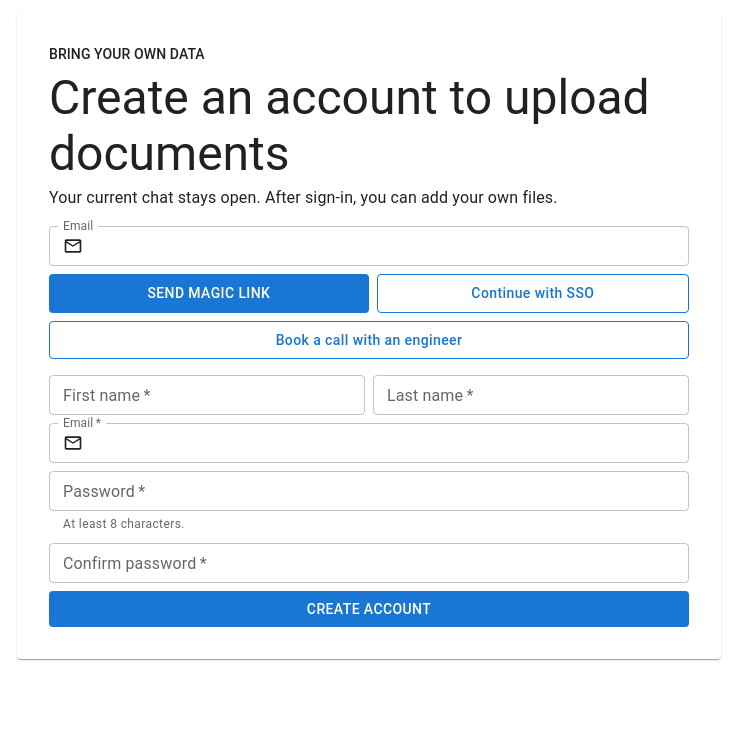
Test: SignUpWidget › blocks submit and shows inline error when passwords don't match
Step 1. Type "Pat" into the field with test id "signup-first-input" → [207, 395], box x1=49 y1=375 x2=365 y2=415
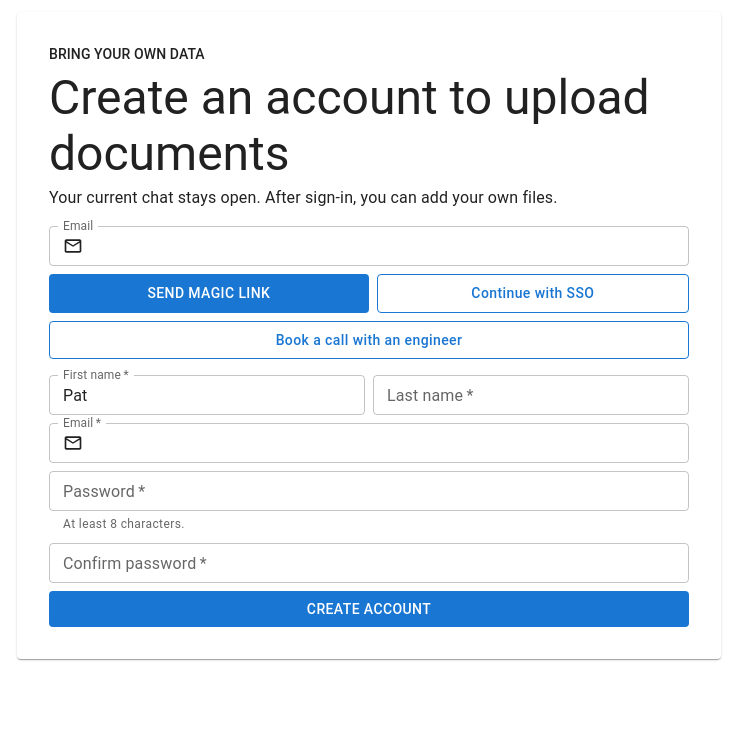
Step 2. Type "Lee" into the field with test id "signup-last-input" → [531, 395], box x1=373 y1=375 x2=689 y2=415
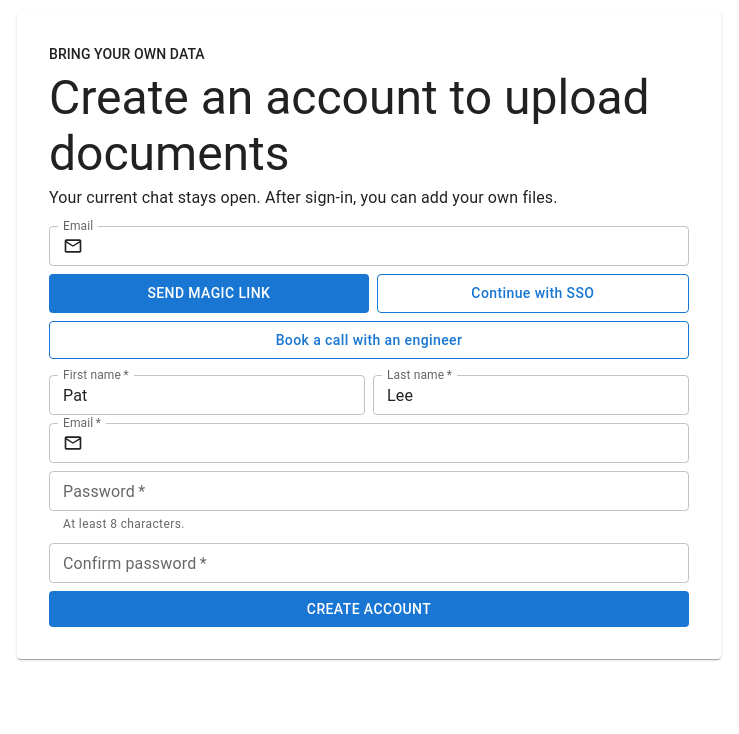
Step 3. Type "pat@example.com" into the field with test id "signup-email-input" → [390, 443], box x1=91 y1=423 x2=689 y2=463
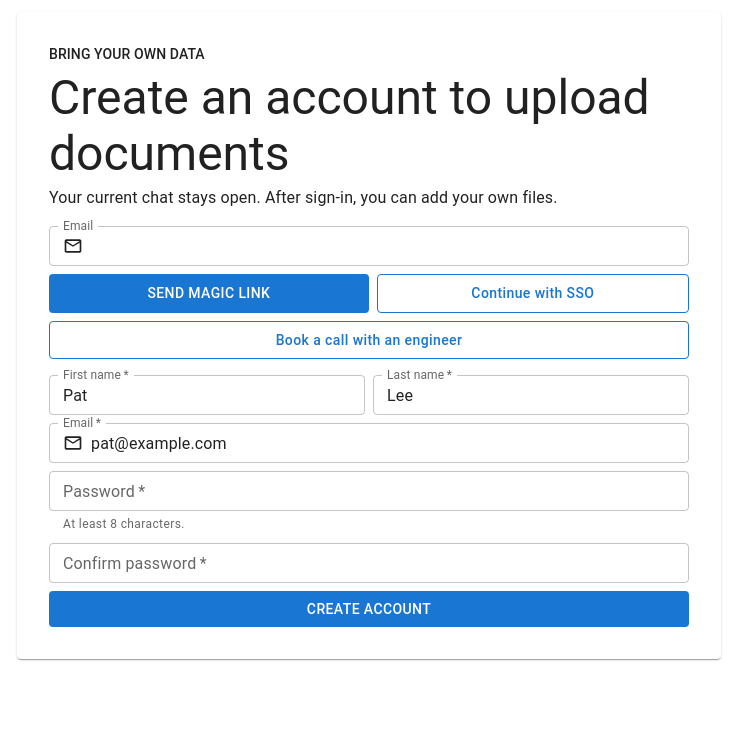
Step 4. Type "longenoughpw" into the password field with test id "signup-password-input" → [369, 491], box x1=49 y1=471 x2=689 y2=511
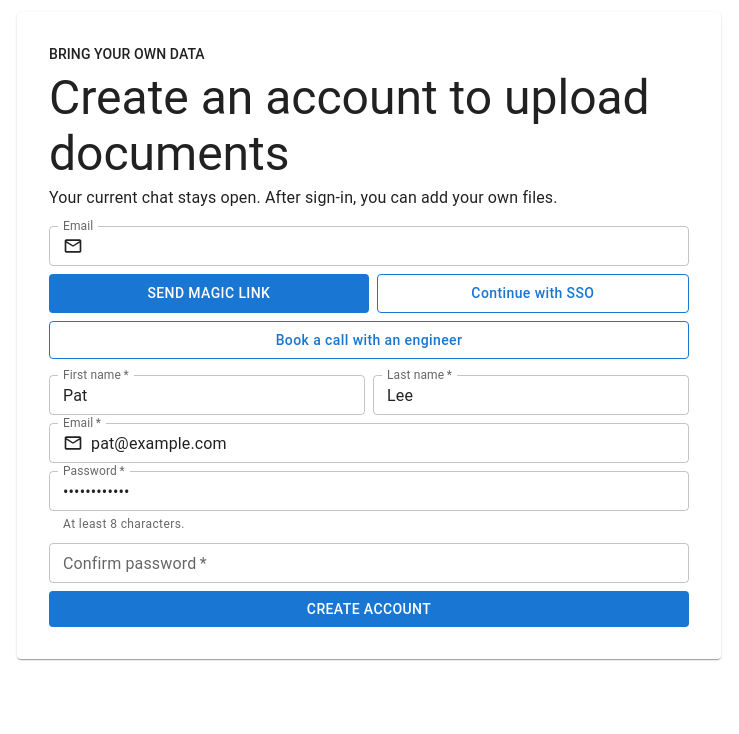
Step 5. Type "different" into the password field with test id "signup-confirm-input" → [369, 563], box x1=49 y1=543 x2=689 y2=583
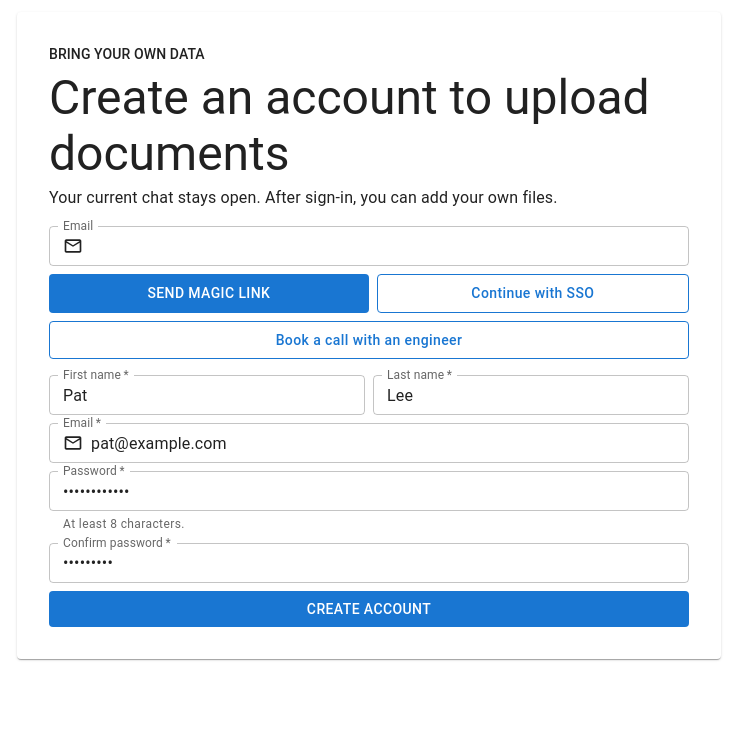
Step 6. Click the button with test id "signup-submit" → [369, 609], box x1=49 y1=591 x2=689 y2=627
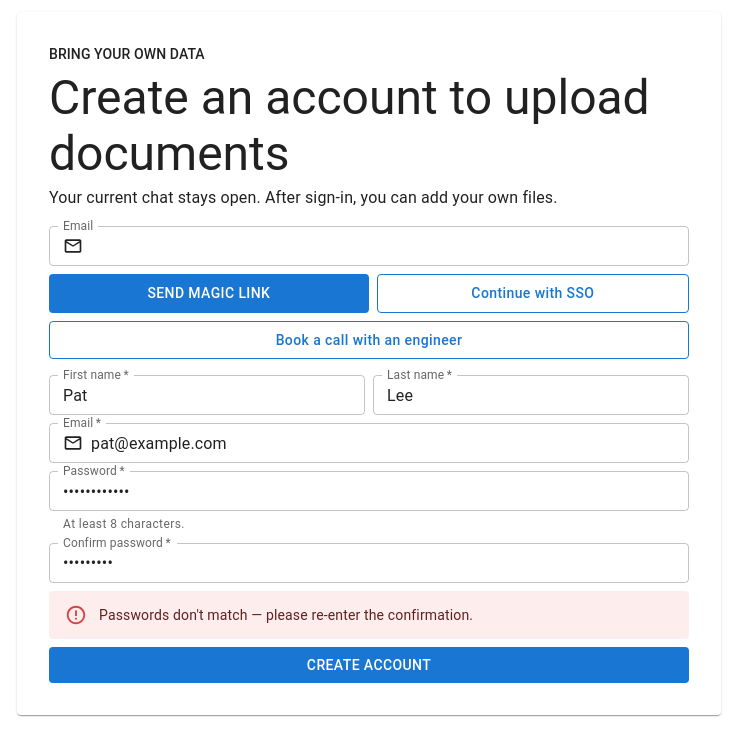
expect the message with test id "signup-error" shows "match": met, box x1=99 y1=607 x2=473 y2=623
